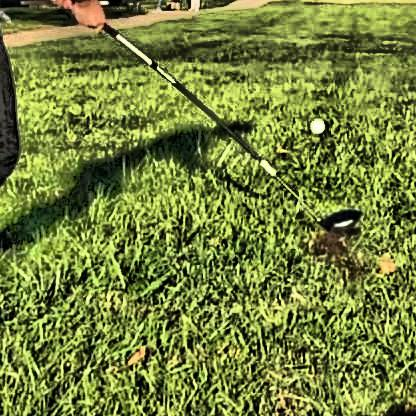golfball: (306, 116, 321, 131)
